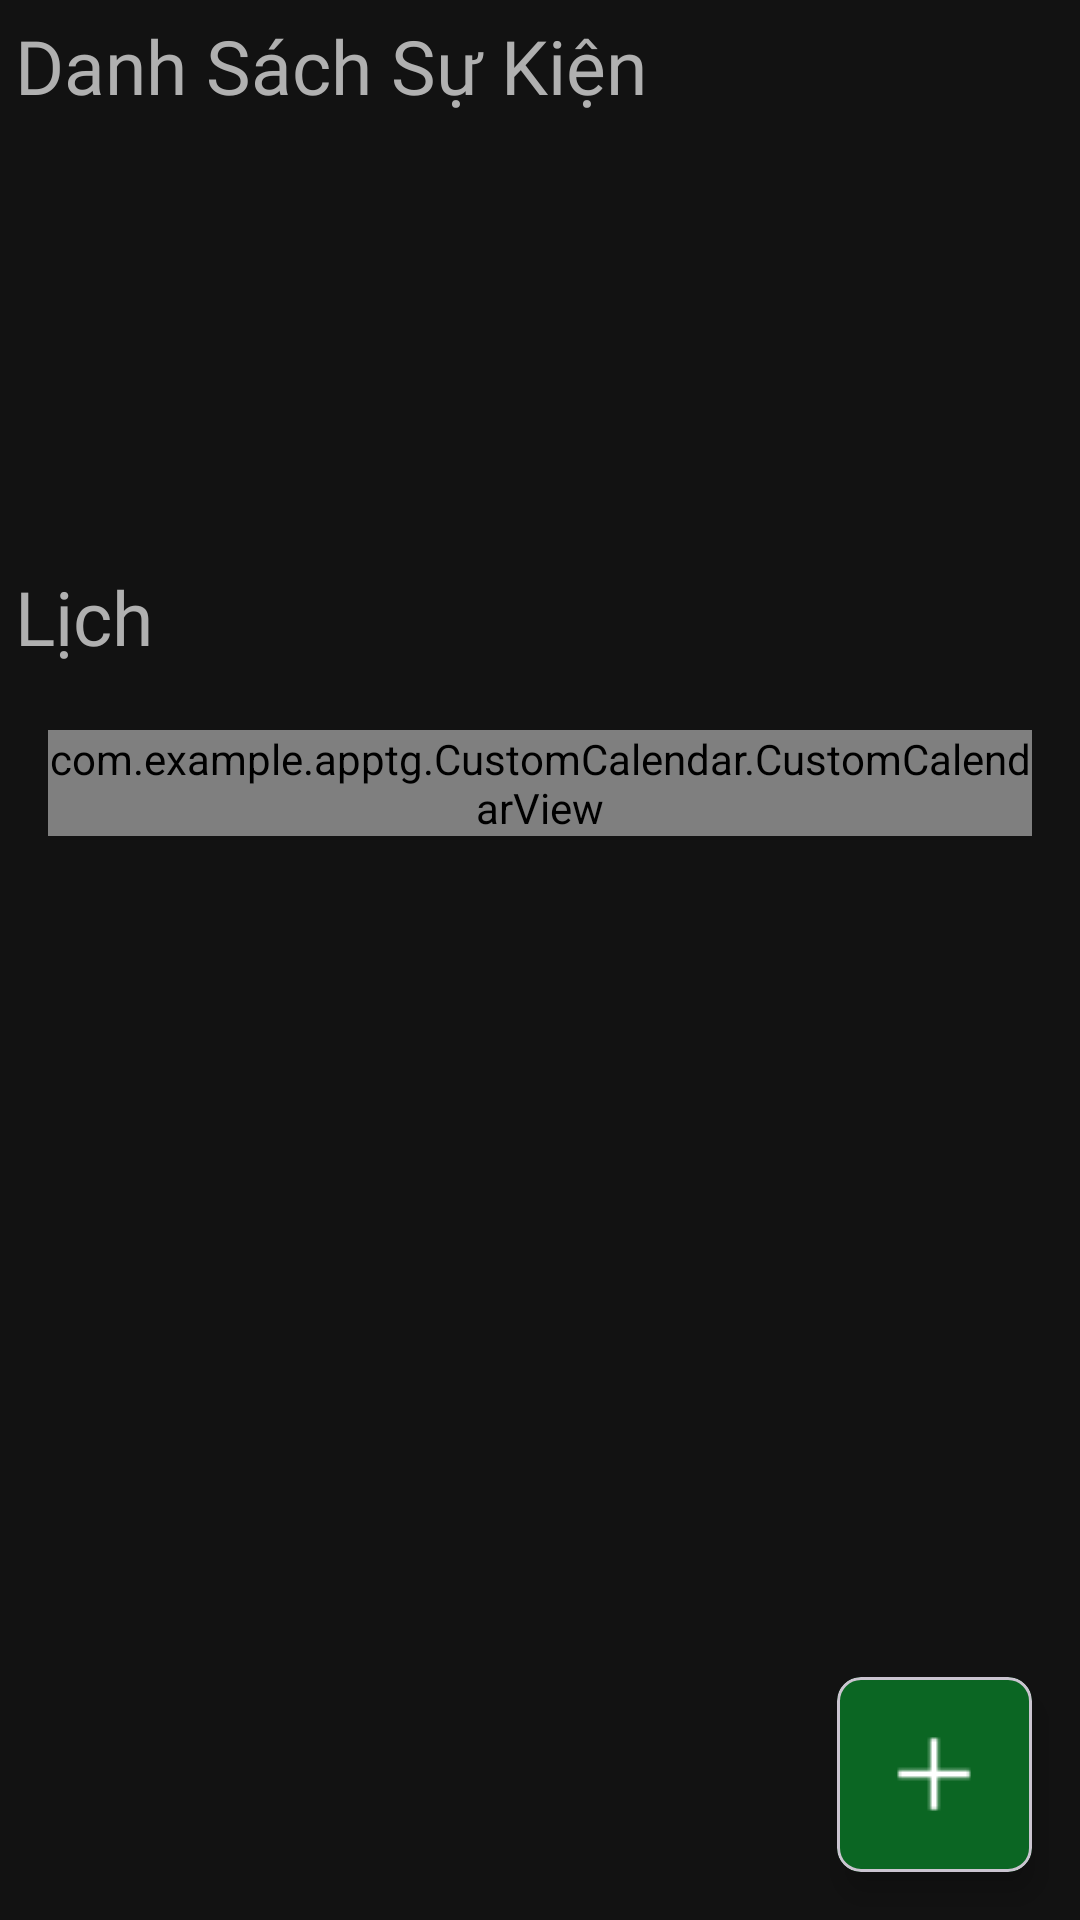

Named icons in this screenshot (1080*1920) and their centers, [x,y]:
Thêm sự kiện: [934,1774]
